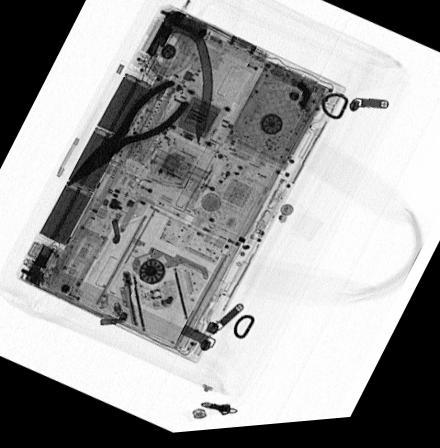Pliers: (65, 81, 192, 190)
